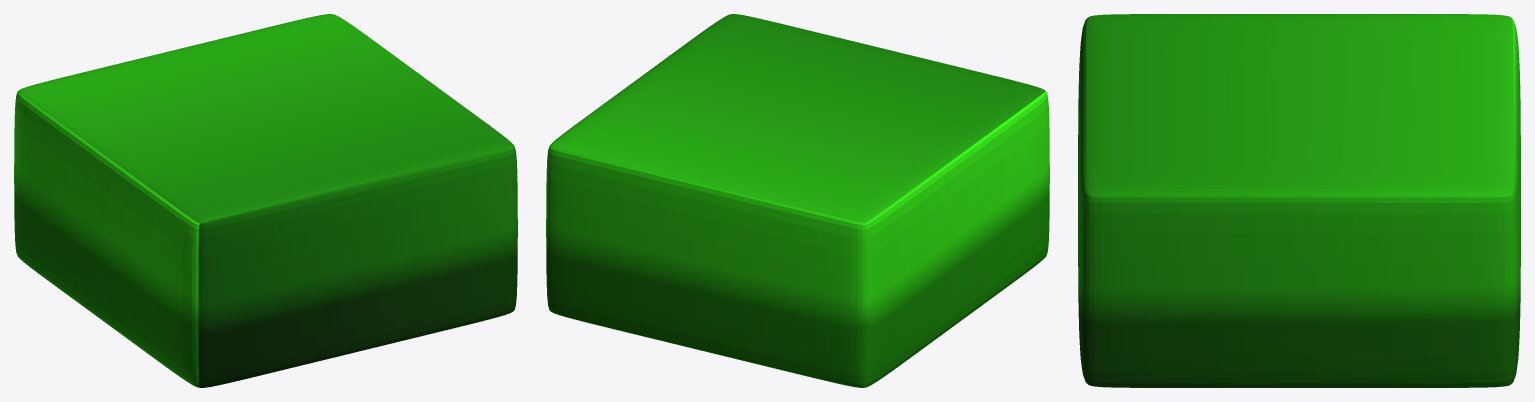
Rendered from grass_tiles.fbx.
The picture shows the model from 3 angles, left to right: view 1: azimuth 30°, elevation 25°; view 2: azimuth 150°, elevation 25°; view 3: azimuth 270°, elevation 25°; orthographic projection. The views are drawn at different scales.
Parts seen in each view (by area): view 1: Cube.001; view 2: Cube.001; view 3: Cube.001.
Part boxes in pixels (x1,y1,x2,y2): Cube.001: [14, 14, 517, 387]; Cube.001: [546, 14, 1049, 387]; Cube.001: [1078, 14, 1520, 387].
Bounding box in the file's own units: 400 × 200 × 400.
Materials: 1 (1 with a texture image).
